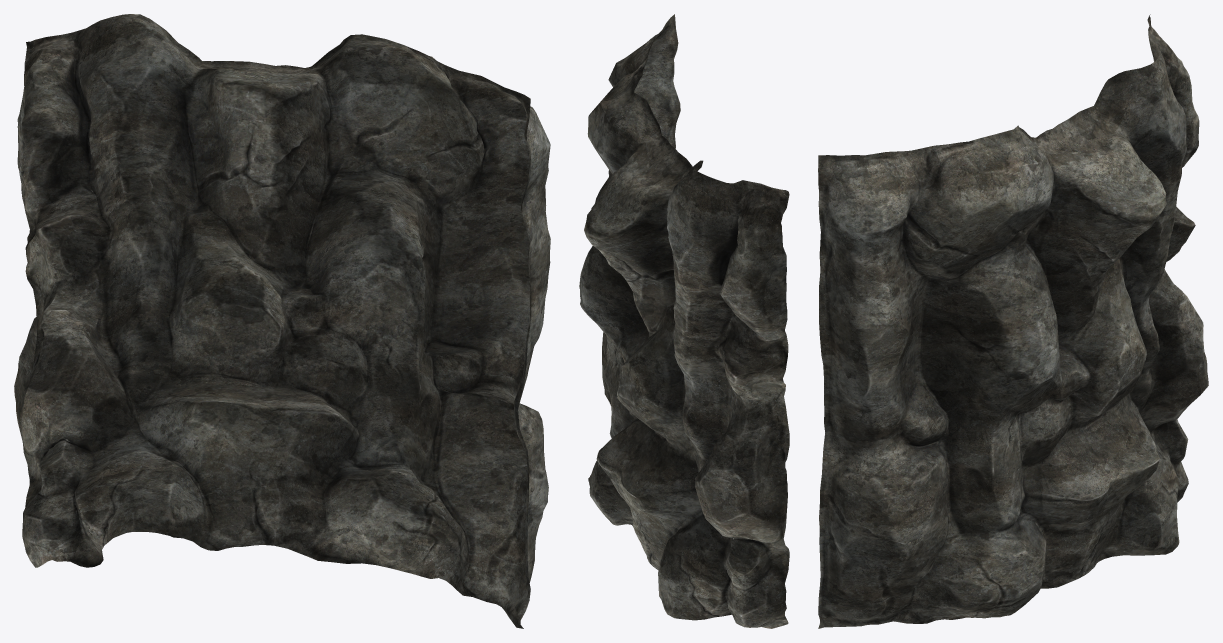
Rendered from cave_ravine_wall_02_convex.dae.
3 views of the same model, side by side, from view 1: azimuth 30°, elevation 25°; view 2: azimuth 150°, elevation 25°; view 3: azimuth 270°, elevation 25° (orthographic). The views are drawn at different scales.
Parts seen in each view (by area): view 1: wall_2_convex_90; view 2: wall_2_convex_90; view 3: wall_2_convex_90.
Part boxes in pixels (x1,y1,x2,y2): wall_2_convex_90: [14, 14, 550, 628]; wall_2_convex_90: [579, 14, 789, 628]; wall_2_convex_90: [818, 14, 1208, 628].
Size of what is drawn, in the model's own units: 2.92 by 4.02 by 2.97.
